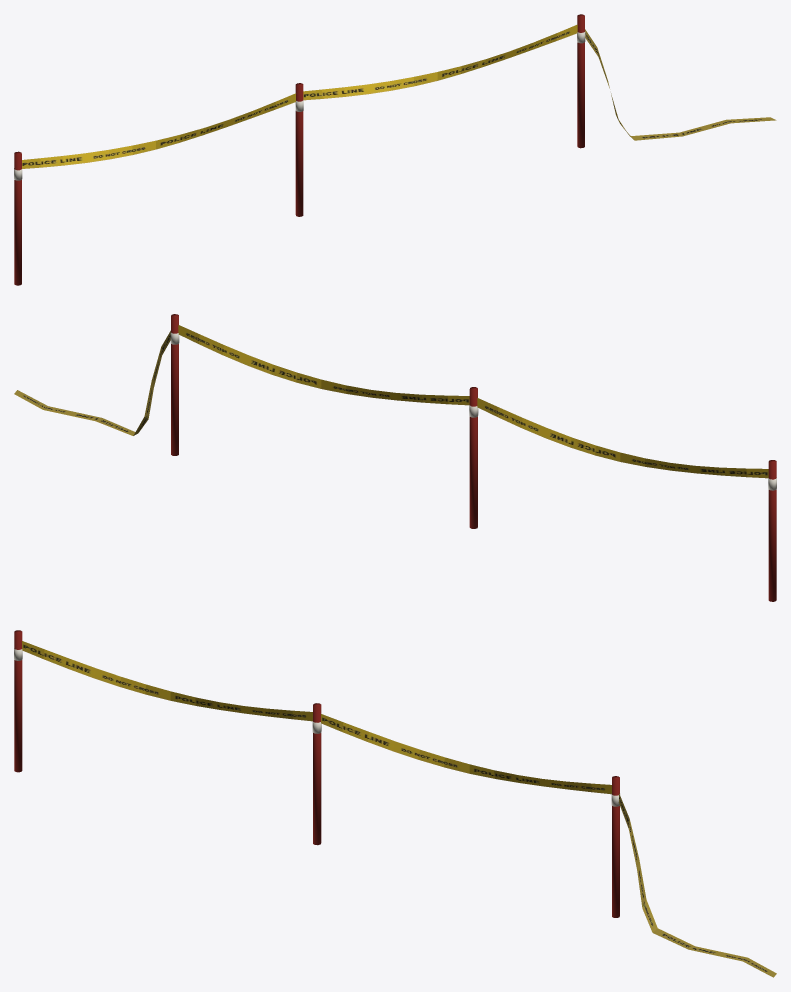
The model's file is police_tape.glb.
3 views of the same model, one above another, from view 1: azimuth 30°, elevation 25°; view 2: azimuth 150°, elevation 25°; view 3: azimuth 330°, elevation 25° (orthographic). The views are drawn at different scales.
Visible parts, largest first — view 1: tape, stake; view 2: tape, stake; view 3: tape, stake.
Part boxes in pixels (box(x1,y1,x2,y2)): tape: box(22, 24, 776, 168); stake: box(14, 14, 584, 285); tape: box(14, 325, 768, 478); stake: box(171, 314, 776, 601); tape: box(22, 641, 776, 977); stake: box(14, 630, 619, 917).
Bounding box in the file's own units: 6.04 × 1.02 × 0.3791.
Materials: 3 (1 with a texture image).
